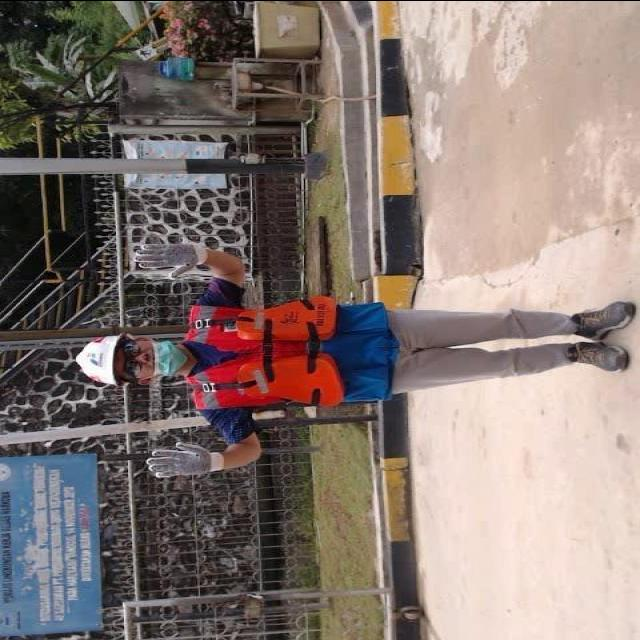helmet: (74, 331, 120, 400)
jacket: (180, 297, 338, 415)
